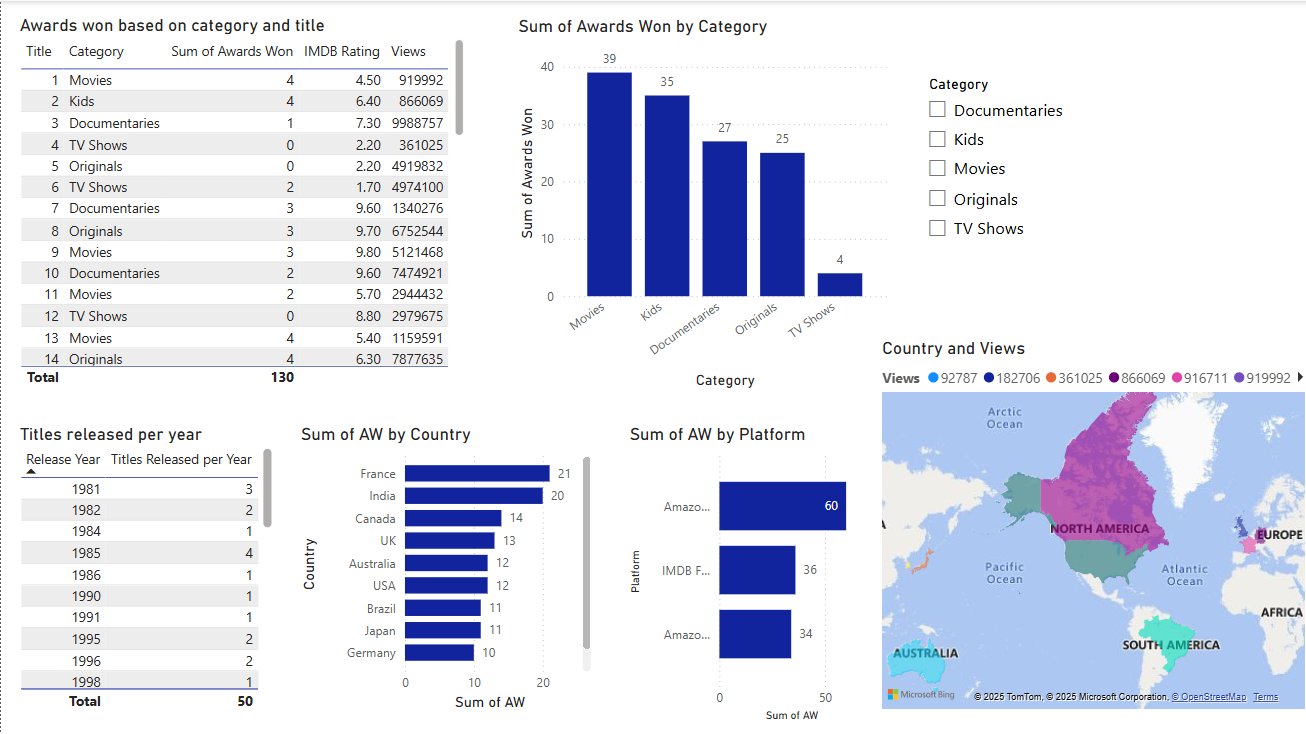

The page's visual inventory and layout, read from the dashboard file:
{"tool":"powerbi","page":{"name":"Page 1","canvas":[1280,720],"ordinal":0},"visuals":[{"type":"tableEx","title":"Awards won based on category and title","fields":{"Values":["amazon prime database.Title","amazon prime database.Category","Sum(amazon prime database.Awards Won)","amazon prime database.IMDB Rating","amazon prime database.Views"]},"box":[13.7,13.7,444.6,369.1],"z":0},{"type":"clusteredColumnChart","fields":{"Category":["amazon prime database.Category"],"Y":["Sum(amazon prime database.Awards Won)"]},"box":[500.9,15.1,370.5,369.1],"z":1000},{"type":"slicer","fields":{"Values":["amazon prime database.Category"]},"box":[894.7,67.2,159.2,175.6],"z":2000},{"type":"tableEx","title":"Titles released per year","fields":{"Values":["amazon prime database.Release Year","amazon prime database.Titles Released per Year"]},"box":[13.7,413,256.6,285.4],"z":3000},{"type":"clusteredBarChart","fields":{"Category":["amazon prime database.Platform"],"Y":["amazon prime database.Sum of AW"]},"box":[610.6,413,247,296.4],"z":4000},{"type":"clusteredBarChart","fields":{"Y":["amazon prime database.Sum of AW"],"Category":["amazon prime database.Country"]},"box":[288.2,413,293.7,285.4],"z":5000},{"type":"filledMap","fields":{"Category":["amazon prime database.Country"],"Series":["amazon prime database.Views"]},"box":[857.5,328.8,422.5,368.8],"z":6000}]}

Visuals, with their boxes in screenshot pixels (x1, y1, x2, y2), scaled from the page's 1280x720 canvas onto the 1306x734 screenshot:
"Awards won based on category and title" tableEx: Rect(14, 14, 468, 390)
clusteredColumnChart - amazon prime database.Category x Sum(amazon prime database.Awards Won): Rect(511, 15, 889, 392)
slicer - amazon prime database.Category: Rect(913, 69, 1075, 248)
"Titles released per year" tableEx: Rect(14, 421, 276, 712)
clusteredBarChart - amazon prime database.Platform x amazon prime database.Sum of AW: Rect(623, 421, 875, 723)
clusteredBarChart - amazon prime database.Sum of AW x amazon prime database.Country: Rect(294, 421, 594, 712)
filledMap - amazon prime database.Country x amazon prime database.Views: Rect(875, 335, 1305, 711)
